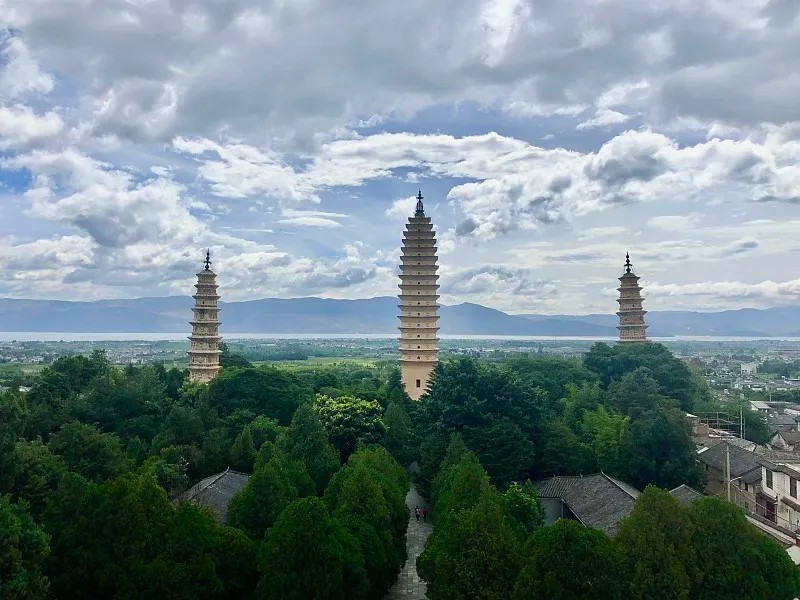ThreePagoda: (397, 189, 440, 400)
